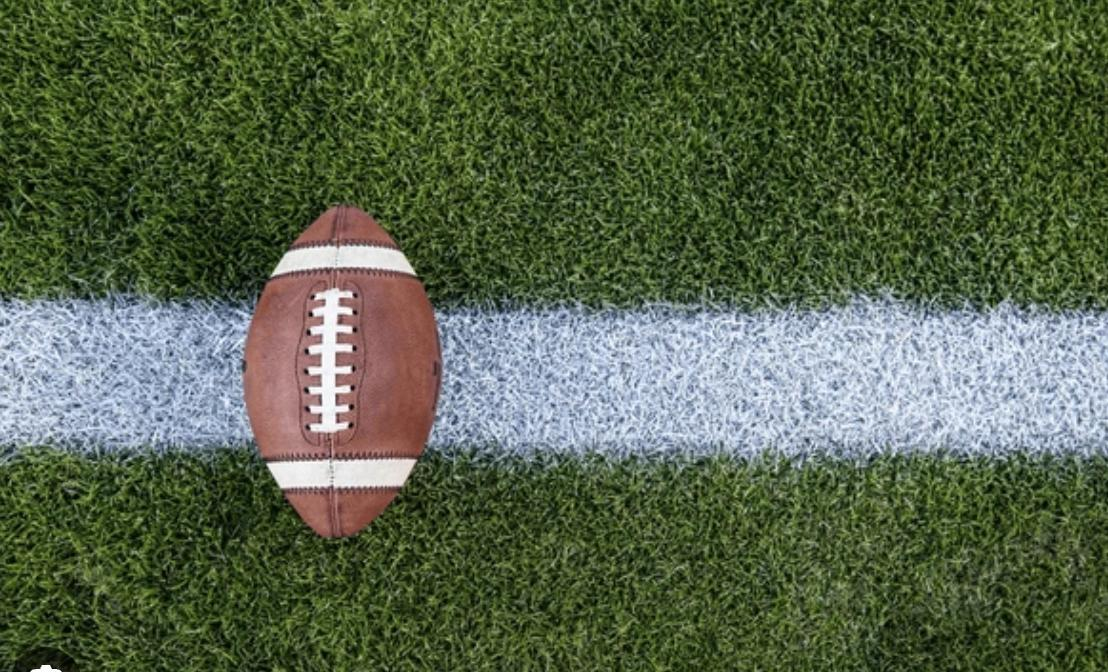Sports-Ball: (245, 206, 442, 537)
